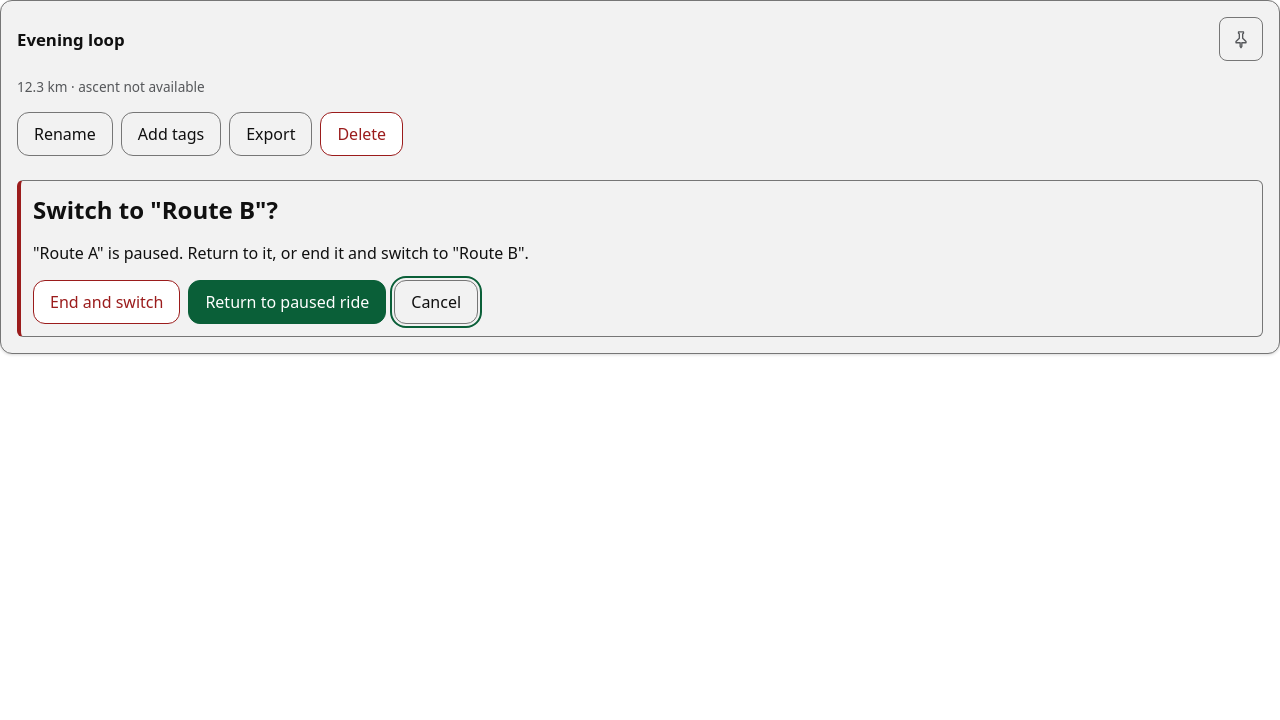
Test: RouteListItem › switch prompt › clicking Rename while this card's switch prompt is open cancels it first, then enters rename mode
Click the button "Rename".
click(65, 134)  # box [17,112,113,156]
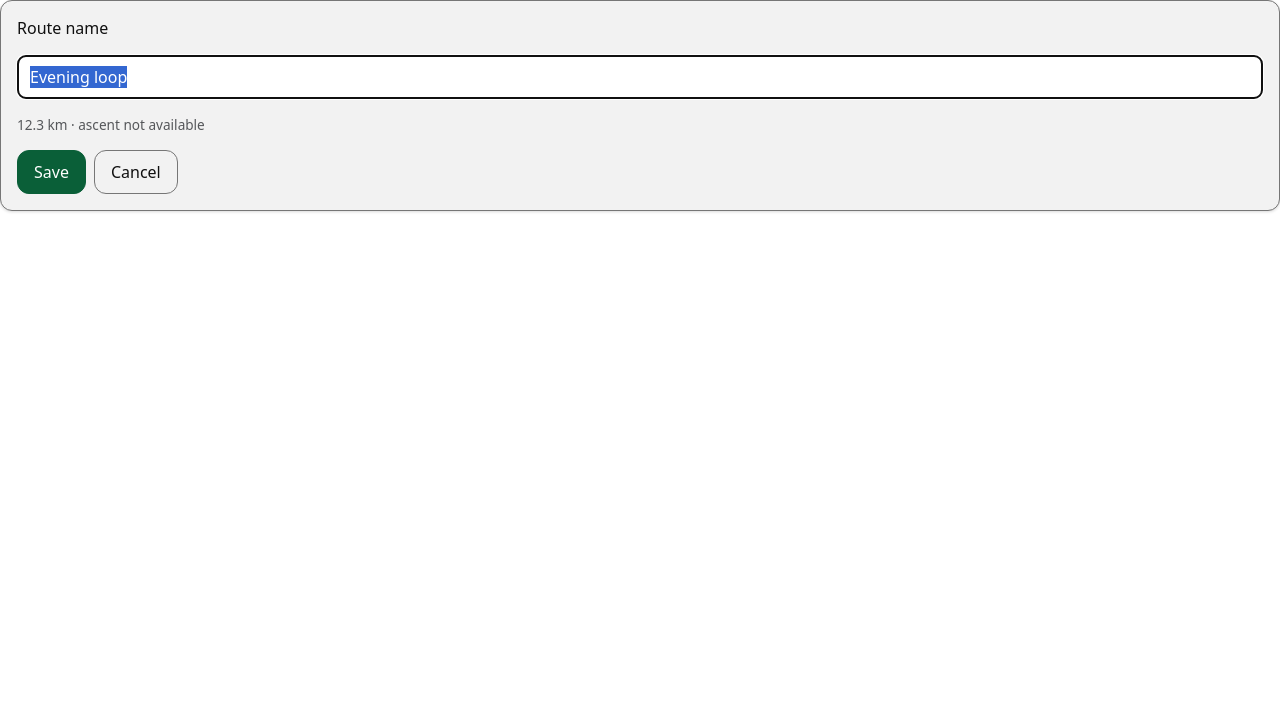
Result: the field labelled "Route name" is shown at [17,55,1263,99]
